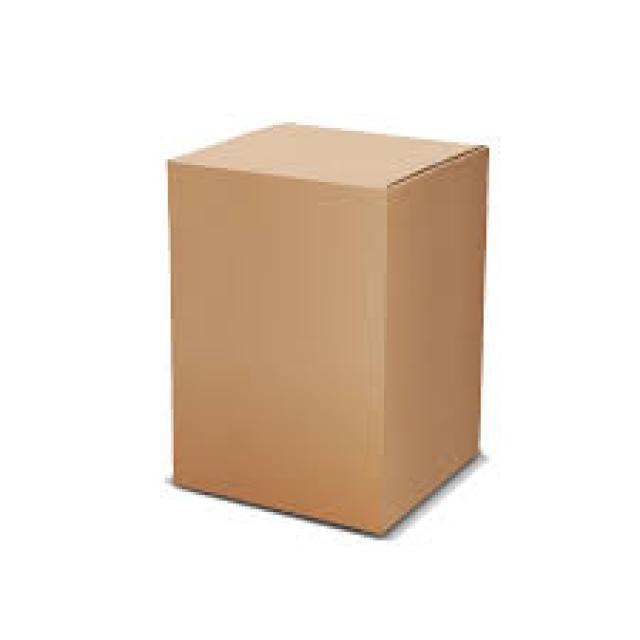cardboard: (162, 119, 487, 532)
